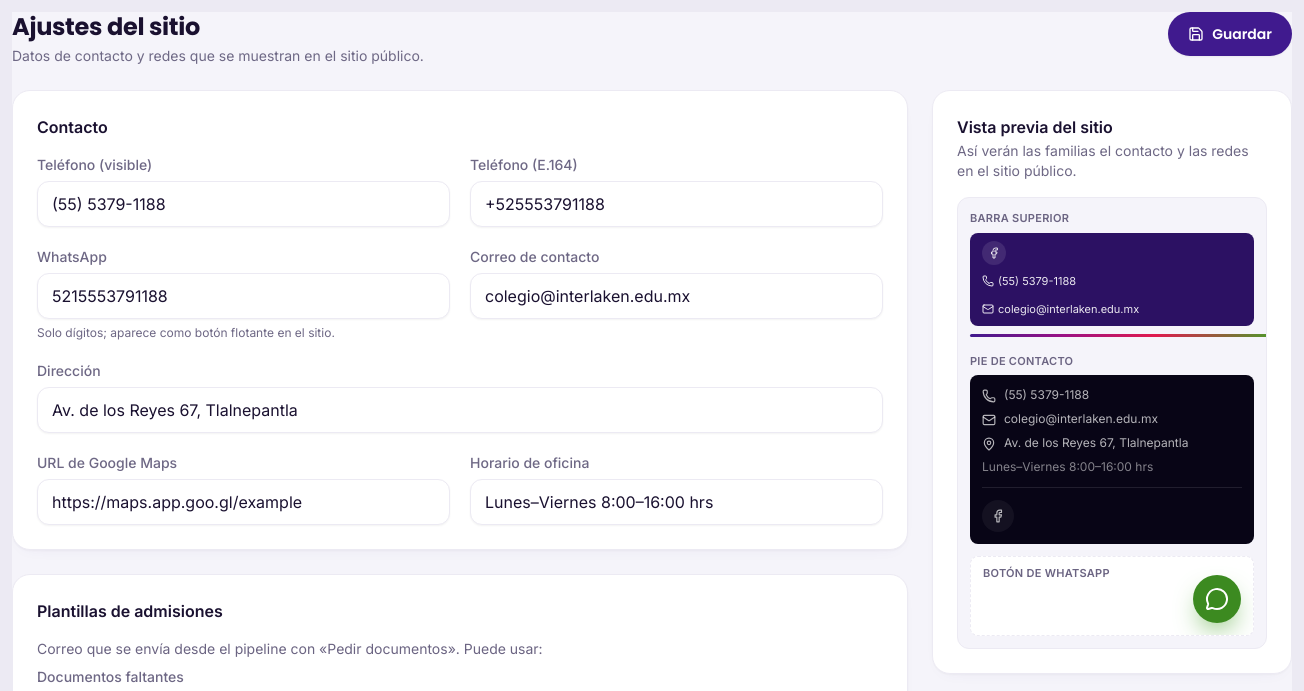
Test: AdminSettings (CMS preview + density) › surfaces DRF field errors under the matching inputs
Expected: the field labelled "WhatsApp" holds "5215553791188", [37,273,450,319]
Click the button "Guardar" at (1230, 34), box [1168,12,1292,56]
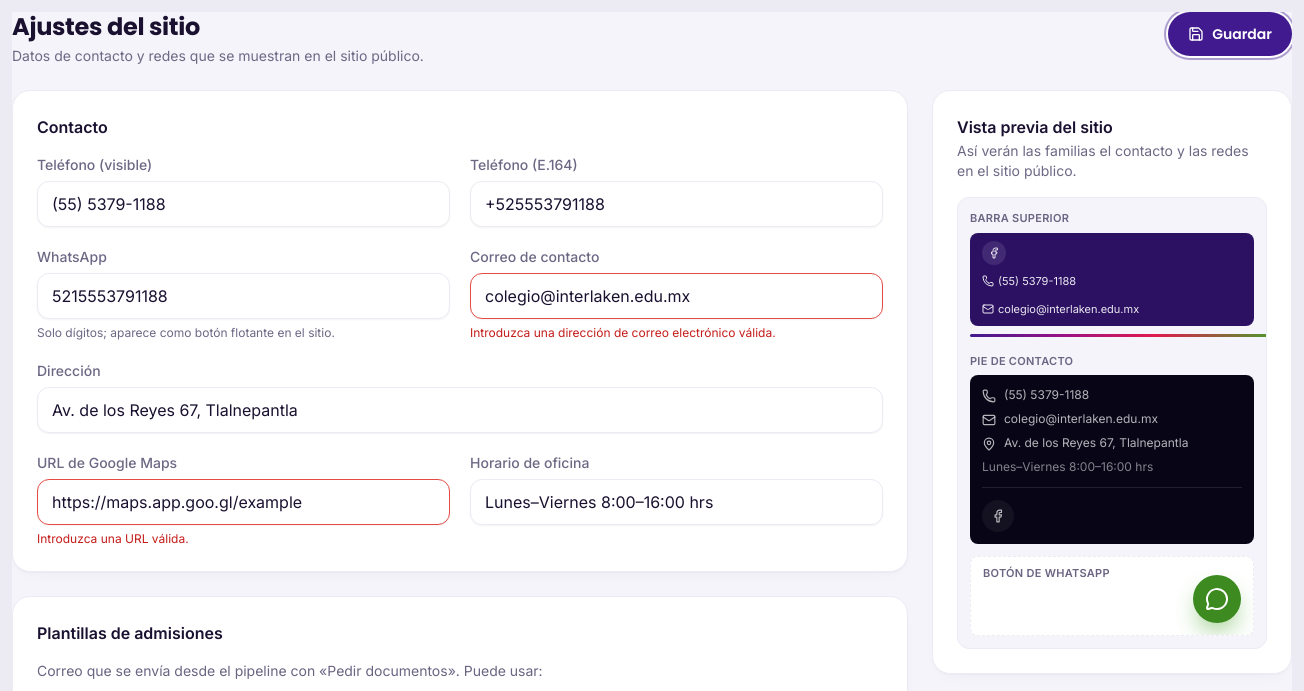
Now the text "Introduzca una dirección de correo electrónico válida." is shown, box [470,325,776,340]
Now the text "Introduzca una URL válida." is shown, box [37,531,189,546]
